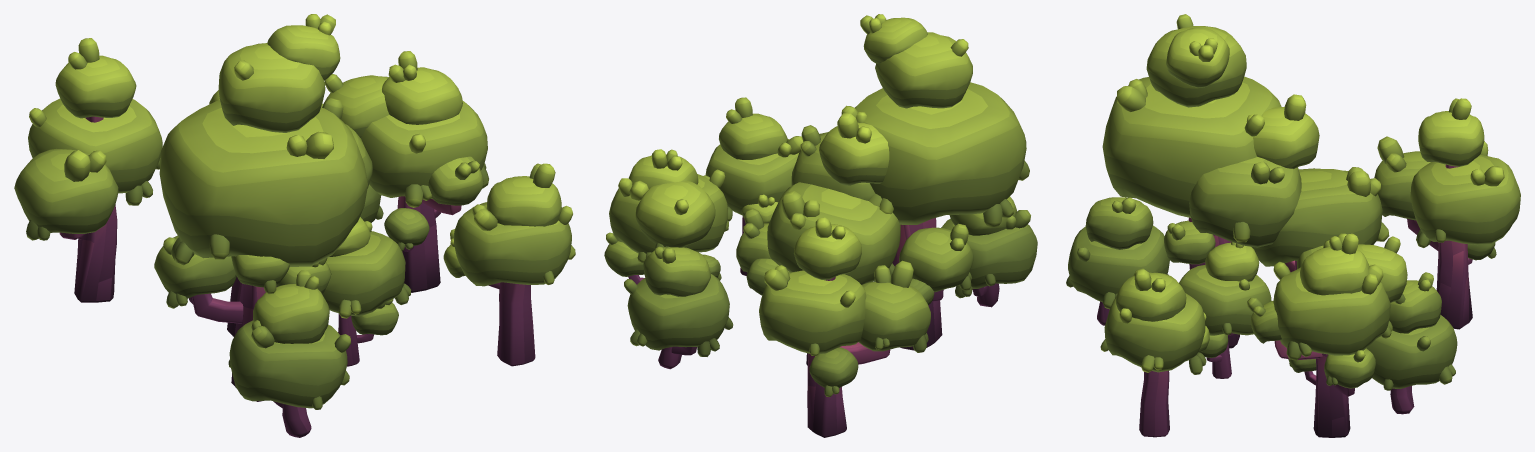
File: grassland_tree_group_col1.fbx
The picture shows the model from 3 angles, left to right: view 1: azimuth 30°, elevation 25°; view 2: azimuth 150°, elevation 25°; view 3: azimuth 270°, elevation 25°; orthographic projection. The views are drawn at different scales.
Visible parts, largest first — view 1: grassland_tree_group_col1; view 2: grassland_tree_group_col1; view 3: grassland_tree_group_col1.
Part boxes in pixels (x1,y1,x2,y2): grassland_tree_group_col1: (14, 14, 575, 437); grassland_tree_group_col1: (604, 14, 1037, 437); grassland_tree_group_col1: (1066, 14, 1520, 437).
Bounding box in the file's own units: 1728 × 1486 × 1906.
